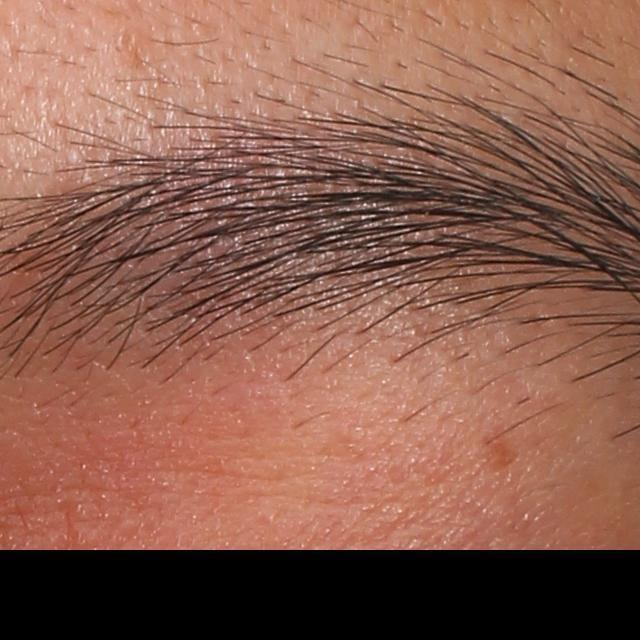melasma: (480, 423, 528, 479)
